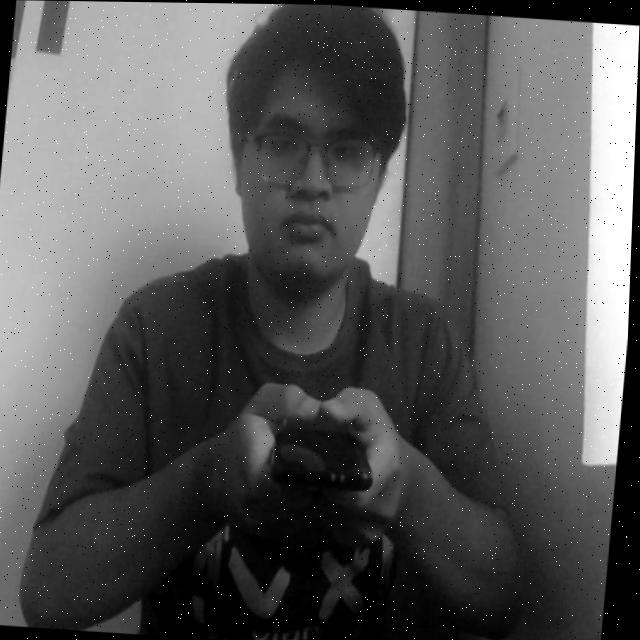phone: (246, 388, 388, 516)
